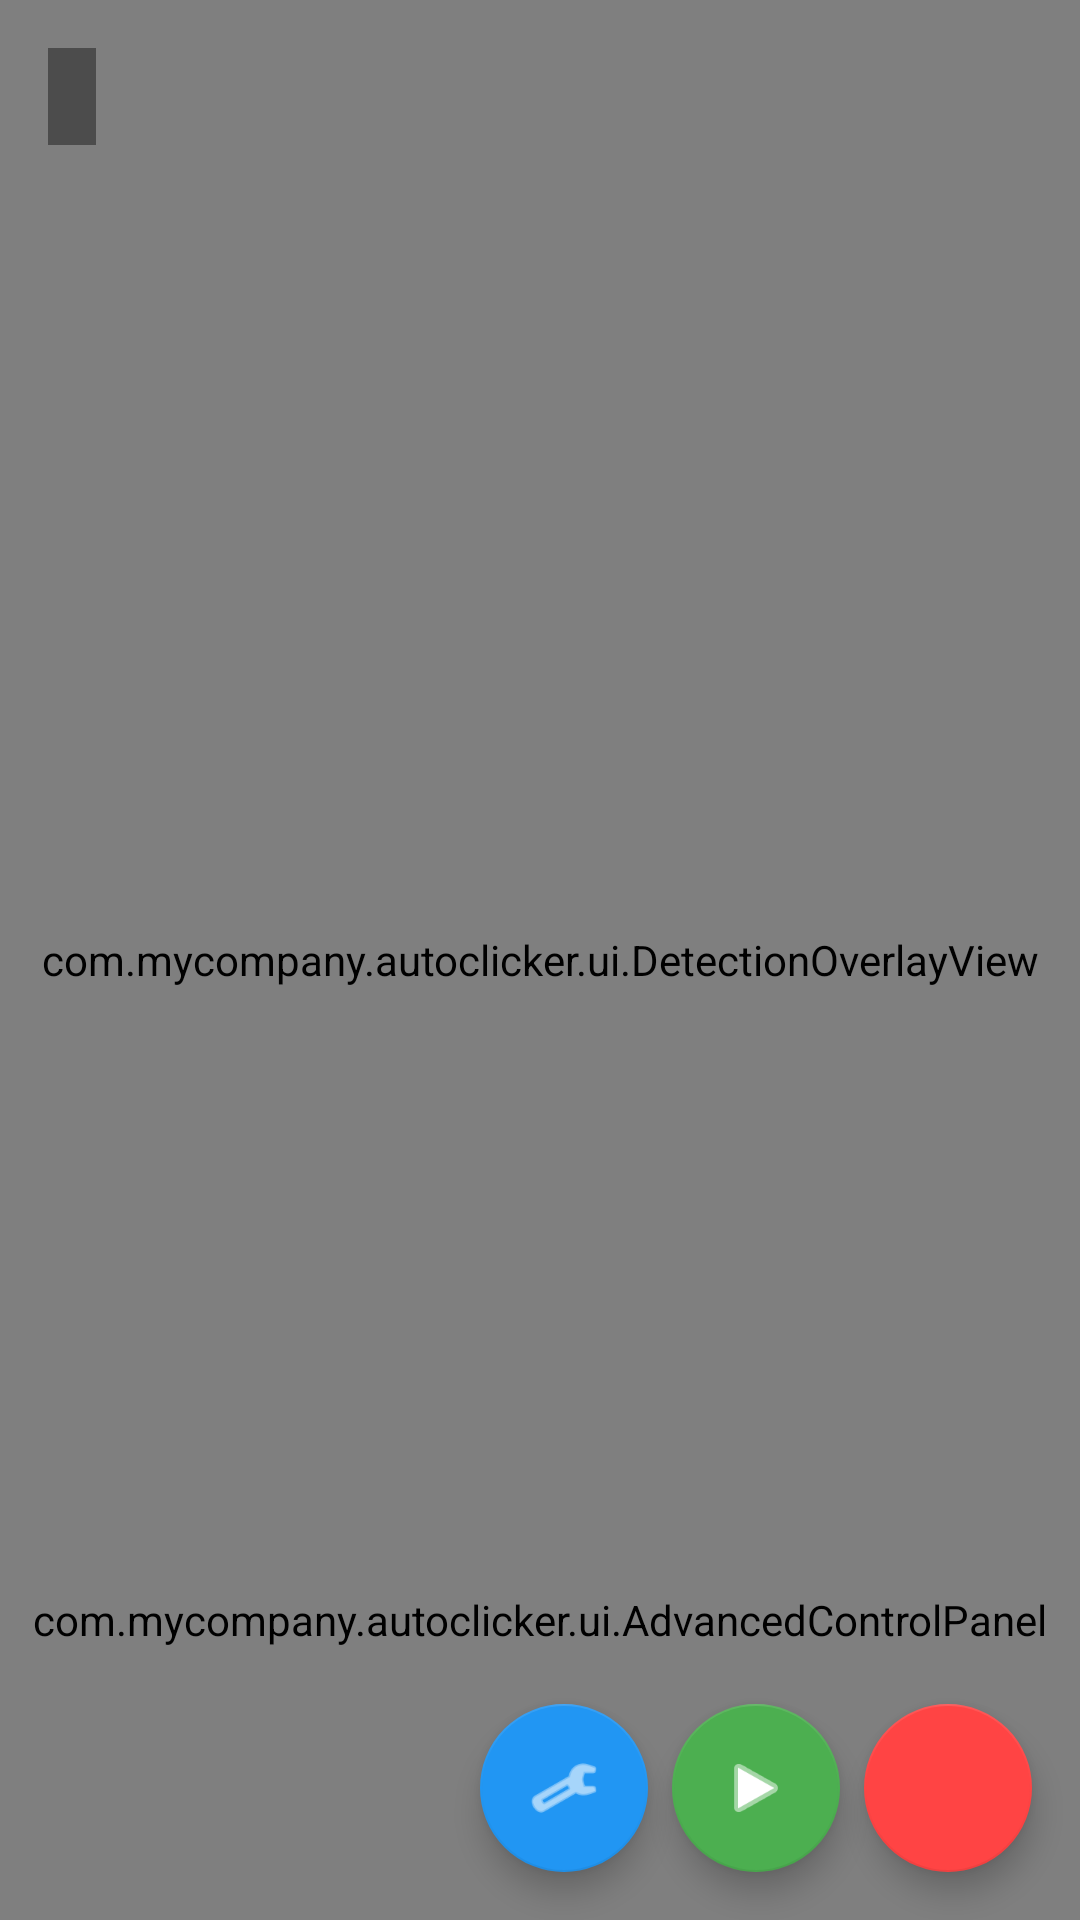

Icon click points for this 1080×1920 phone screenshot, format point (x, y):
manage: point (564, 1788)
play: point (756, 1788)
record: point (948, 1788)
